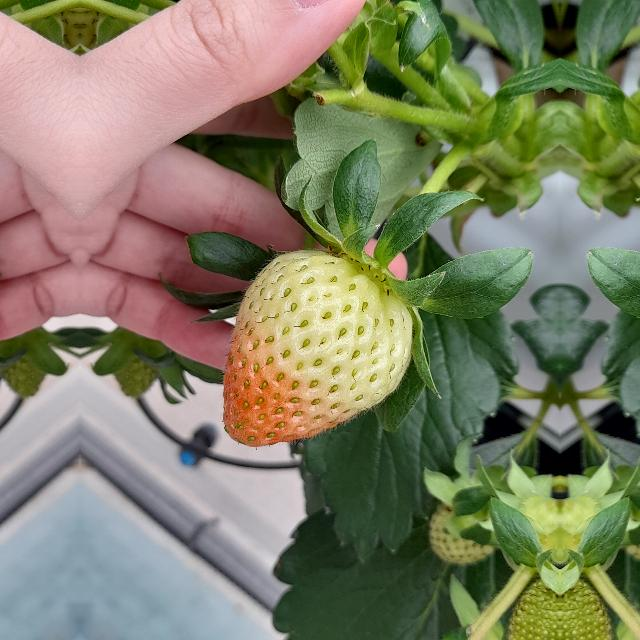Health_50: (222, 249, 412, 446)
